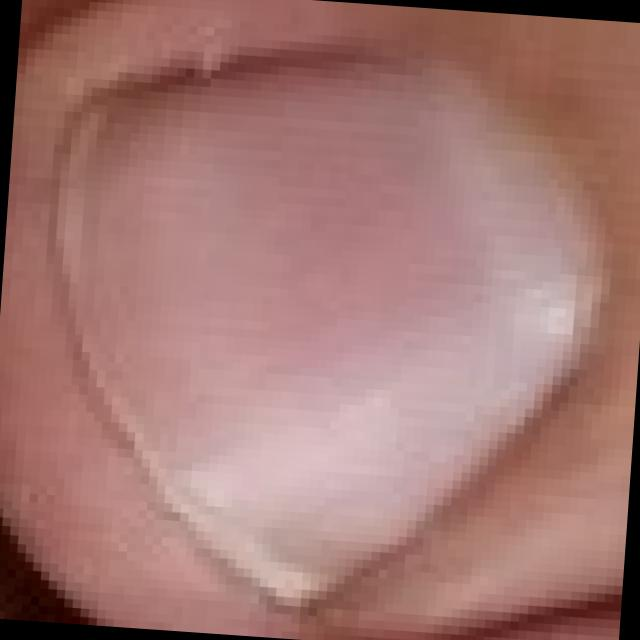Nail: (59, 46, 590, 605)
